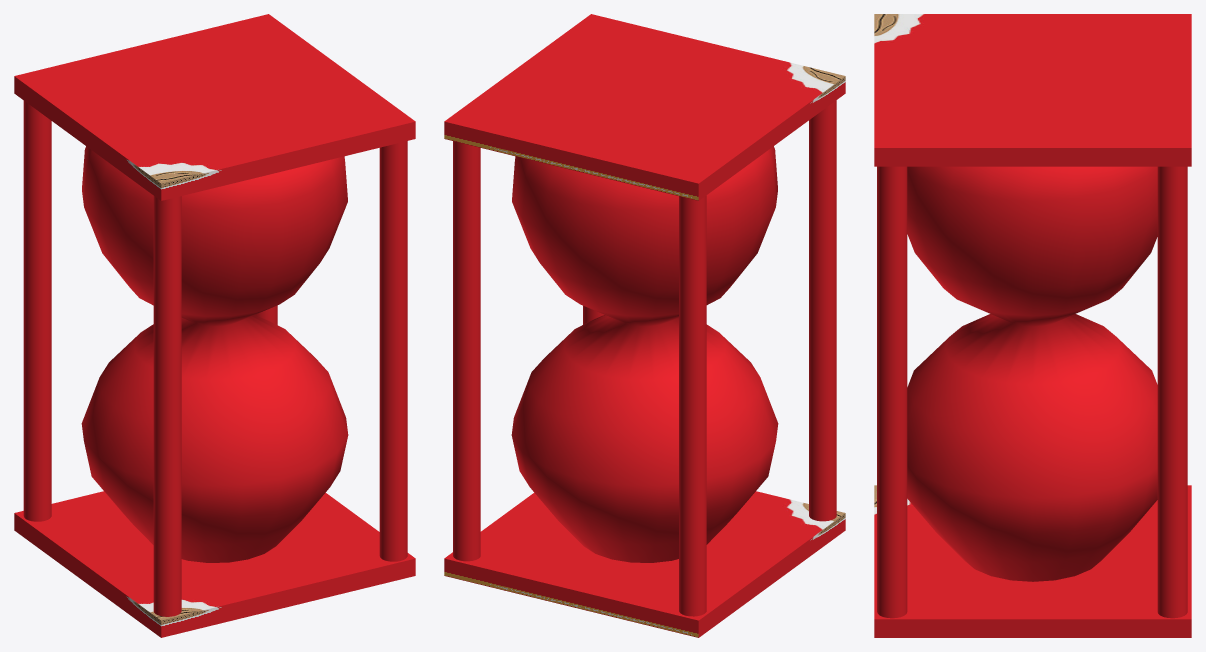
The model's file is Hourglass.fbx.
3 views of the same model, side by side, from view 1: azimuth 30°, elevation 25°; view 2: azimuth 150°, elevation 25°; view 3: azimuth 270°, elevation 25° (orthographic). The views are drawn at different scales.
Parts seen in each view (by area): view 1: Wood, Glass; view 2: Wood, Glass; view 3: Wood, Glass.
Boxes of the visible parts, bbox=[...] form: Wood: bbox=[14, 14, 415, 637]; Glass: bbox=[81, 146, 348, 562]; Wood: bbox=[444, 14, 845, 637]; Glass: bbox=[511, 146, 778, 562]; Wood: bbox=[874, 14, 1191, 637]; Glass: bbox=[907, 166, 1157, 581].
Bounding box in the file's own units: 0.00219 × 0.00374 × 0.00219.
